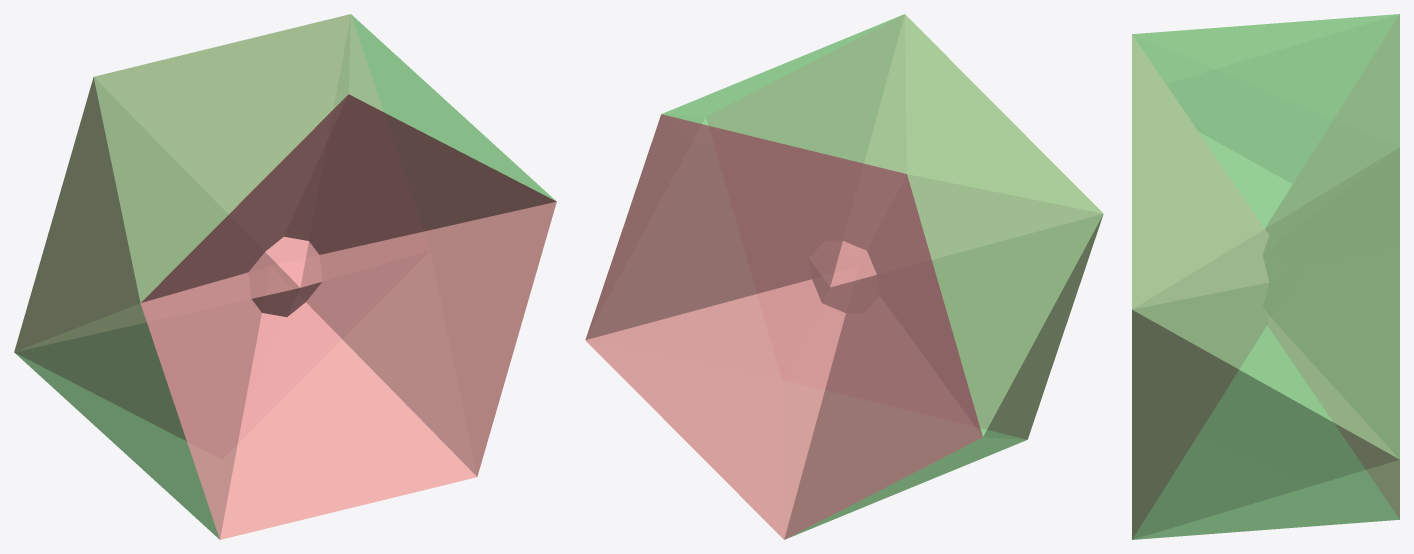
Rendered from 28_Diexcavated_Pentagonal_Antiprism.obj.
The picture shows the model from 3 angles, left to right: view 1: azimuth 30°, elevation 25°; view 2: azimuth 150°, elevation 25°; view 3: azimuth 270°, elevation 25°; orthographic projection. The views are drawn at different scales.
Bounding box in the file's own units: 1.62 × 1.7 × 0.8507.
